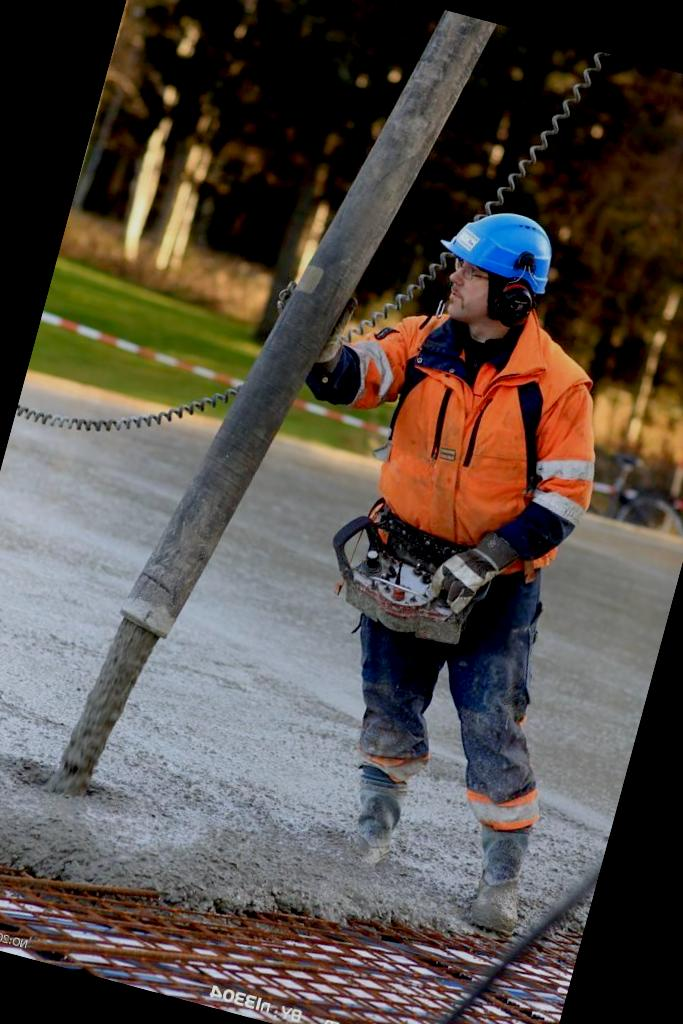helmet: (438, 196, 576, 302)
person: (165, 162, 683, 939)
